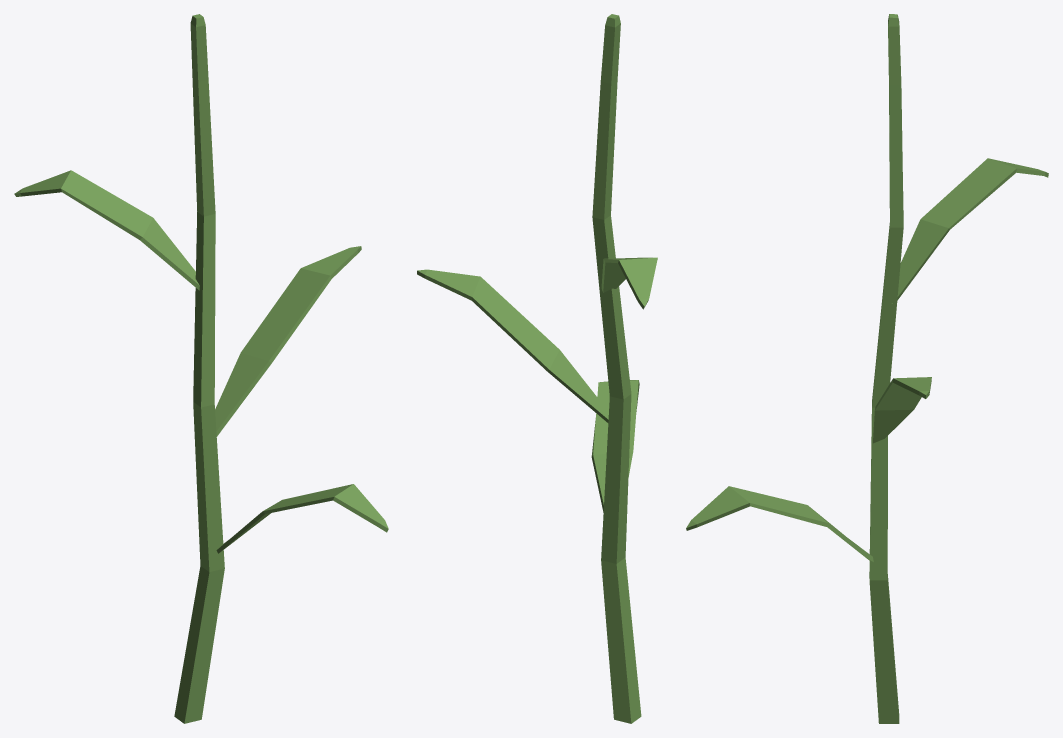
The model's file is corn_2.gltf.
3 renders of one model, left to right at view 1: azimuth 30°, elevation 25°; view 2: azimuth 150°, elevation 25°; view 3: azimuth 270°, elevation 25°, orthographic.
Visible parts, largest first — view 1: corn_2; view 2: corn_2; view 3: corn_2.
Part boxes in pixels (<box>): corn_2: <box>14,14,388,723</box>; corn_2: <box>417,14,657,723</box>; corn_2: <box>686,14,1048,723</box>.
Size of the model in its own units: 0.2837 by 0.6587 by 0.3051.
Materials: 1 (1 with a texture image).
